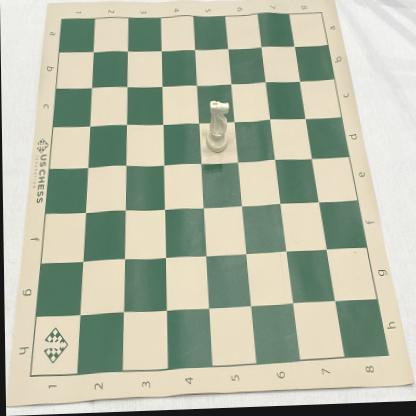white-knight: (204, 101, 230, 156)
